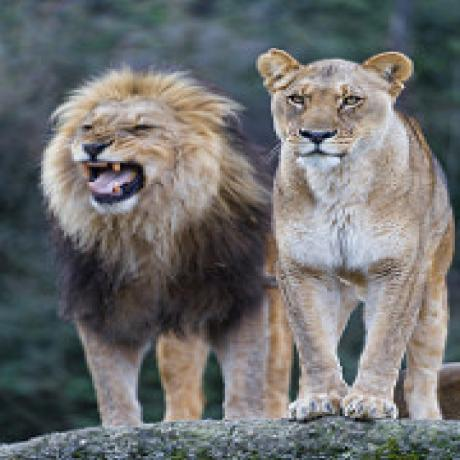Lion: (39, 66, 286, 431), (262, 44, 460, 422)
